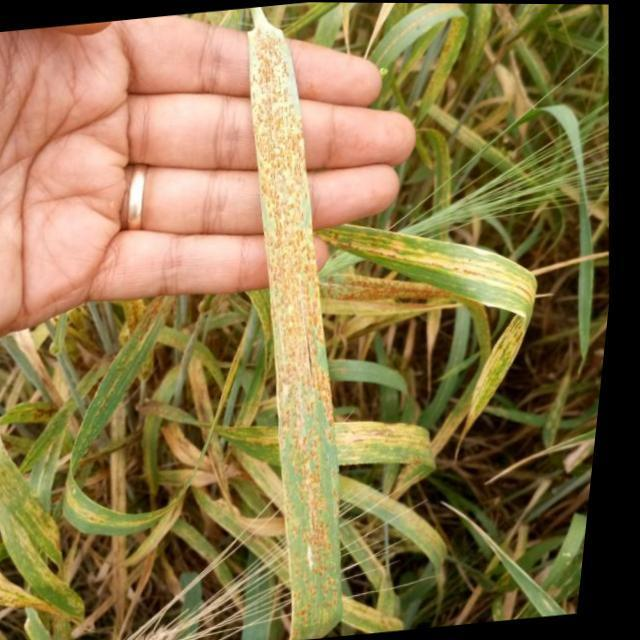Stem_Rust: (246, 5, 356, 639)
